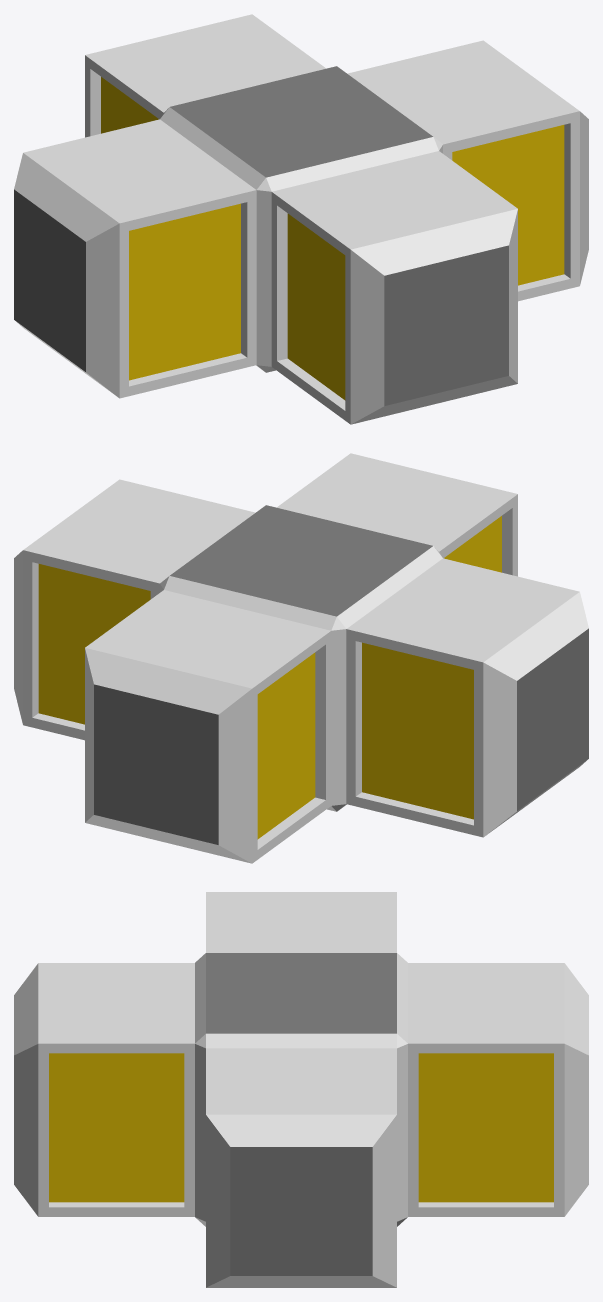
The model's file is prototype.glb.
The picture shows the model from 3 angles, top to bottom: view 1: azimuth 30°, elevation 25°; view 2: azimuth 150°, elevation 25°; view 3: azimuth 270°, elevation 25°; orthographic projection.
Visible parts, largest first — view 1: Cube; view 2: Cube; view 3: Cube.
Part boxes in pixels (x1,y1,x2,y2): Cube: (14,14,588,424); Cube: (14,453,588,863); Cube: (14,892,588,1287).
Bounding box in the file's own units: 5.39 × 2 × 5.39.
